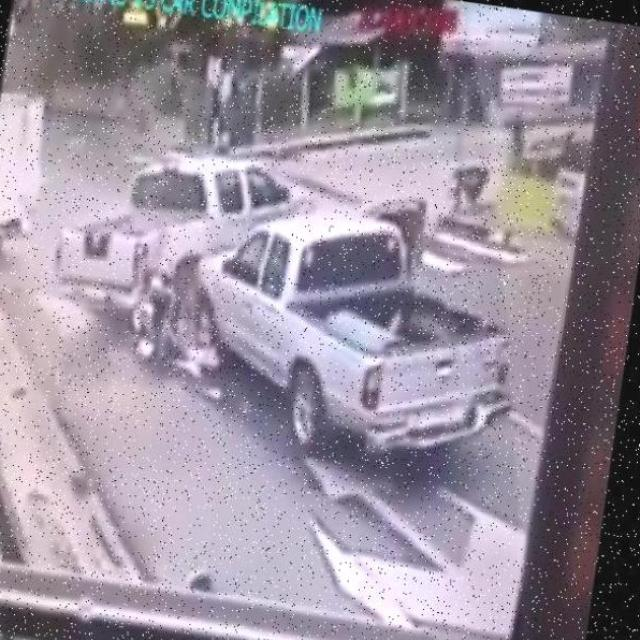accident: (31, 131, 547, 485)
